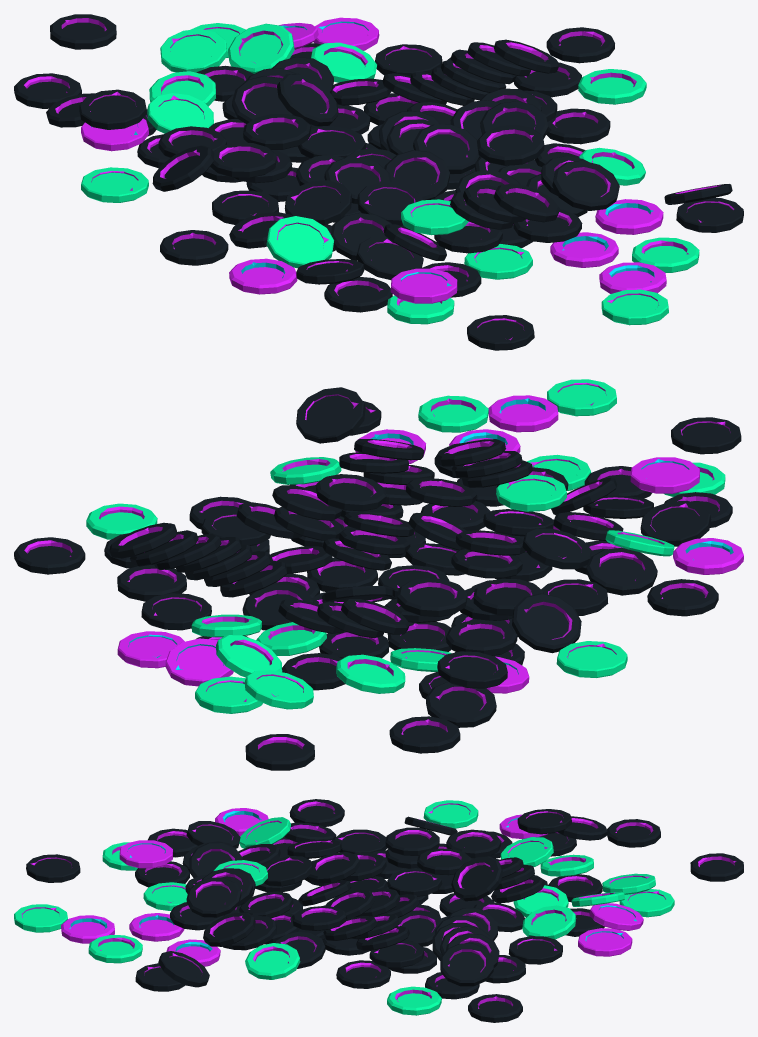
File: mound.glb
The picture shows the model from 3 angles, top to bottom: view 1: azimuth 30°, elevation 25°; view 2: azimuth 150°, elevation 25°; view 3: azimuth 270°, elevation 25°; orthographic projection. The views are drawn at different scales.
Parts seen in each view (by area): view 1: Circle.058; view 2: Circle.058; view 3: Circle.058.
Part boxes in pixels (bbox=[...]): Circle.058: bbox=[14, 14, 743, 350]; Circle.058: bbox=[14, 379, 743, 770]; Circle.058: bbox=[14, 799, 743, 1022].
Size of the model in its own units: 10.56 by 0.8314 by 14.92.
1 material, 1 textured.
